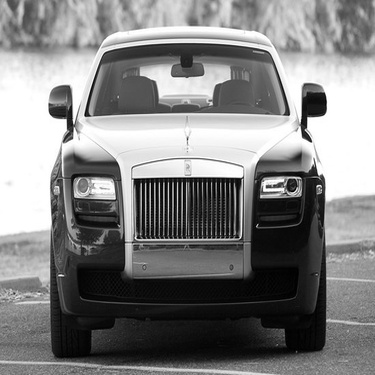car: (37, 21, 334, 360)
